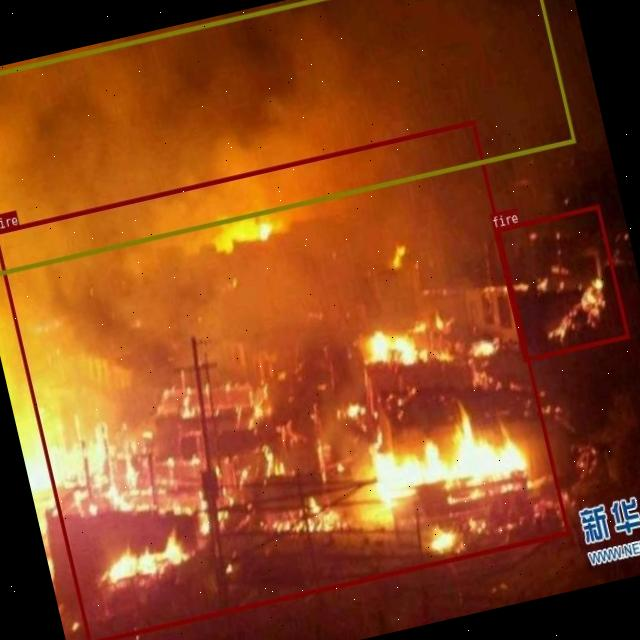fire: (0, 119, 569, 640), (492, 204, 628, 362)
smoke: (0, 0, 574, 278)
